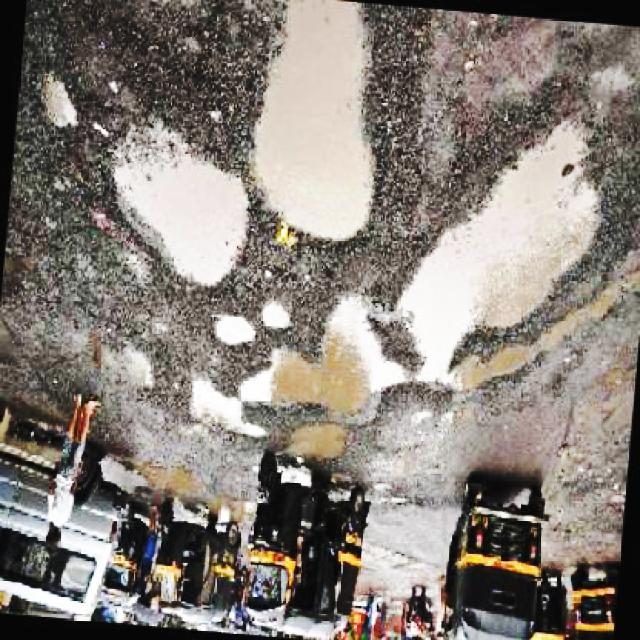pothole: (408, 108, 618, 363), (249, 0, 394, 246), (424, 249, 640, 389), (103, 117, 260, 288), (243, 286, 403, 409), (120, 462, 252, 524), (182, 376, 268, 438), (34, 64, 80, 130), (293, 420, 362, 463), (212, 311, 258, 346)
